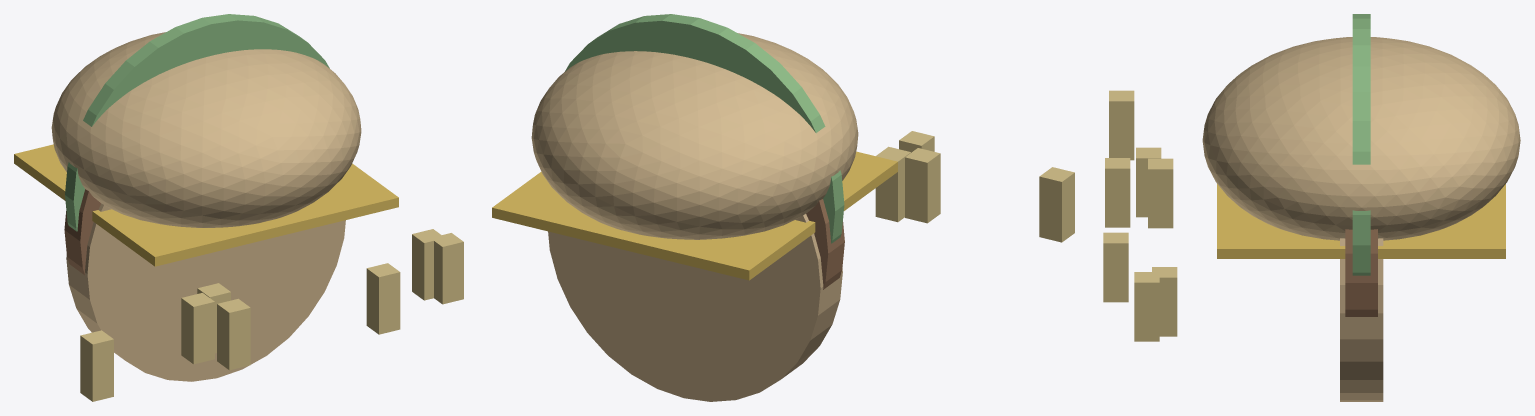
The model's file is burger.glb.
3 renders of one model, left to right at view 1: azimuth 30°, elevation 25°; view 2: azimuth 150°, elevation 25°; view 3: azimuth 270°, elevation 25°, orthographic. The views are drawn at different scales.
Parts seen in each view (by area): view 1: geometry_4, geometry_0, geometry_2, geometry_3, geometry_5, geometry_7, geometry_11, geometry_8, geometry_9, geometry_6, geometry_1, geometry_10; view 2: geometry_4, geometry_0, geometry_2, geometry_3, geometry_8, geometry_11, geometry_1, geometry_10, geometry_7; view 3: geometry_4, geometry_2, geometry_0, geometry_3, geometry_1, geometry_5, geometry_10, geometry_7, geometry_9, geometry_8, geometry_6, geometry_11.
Boxes of the visible parts, x1=… form: geometry_4: x1=51, y1=32, x2=361, y2=227; geometry_0: x1=66, y1=203, x2=345, y2=381; geometry_2: x1=14, y1=144, x2=398, y2=266; geometry_3: x1=65, y1=14, x2=329, y2=231; geometry_5: x1=366, y1=263, x2=400, y2=334; geometry_7: x1=217, y1=298, x2=250, y2=370; geometry_11: x1=181, y1=293, x2=214, y2=364; geometry_8: x1=80, y1=330, x2=113, y2=401; geometry_9: x1=434, y1=233, x2=463, y2=304; geometry_6: x1=412, y1=229, x2=444, y2=300; geometry_1: x1=64, y1=189, x2=100, y2=275; geometry_10: x1=197, y1=283, x2=230, y2=353; geometry_4: x1=531, y1=33, x2=858, y2=239; geometry_0: x1=548, y1=214, x2=842, y2=401; geometry_2: x1=492, y1=151, x2=897, y2=280; geometry_3: x1=565, y1=14, x2=844, y2=243; geometry_8: x1=1039, y1=167, x2=1074, y2=242; geometry_11: x1=905, y1=148, x2=940, y2=223; geometry_1: x1=806, y1=199, x2=844, y2=289; geometry_10: x1=875, y1=146, x2=910, y2=222; geometry_7: x1=899, y1=131, x2=934, y2=152; geometry_4: x1=1202, y1=37, x2=1520, y2=240; geometry_2: x1=1217, y1=184, x2=1505, y2=258; geometry_0: x1=1340, y1=238, x2=1383, y2=401; geometry_3: x1=1352, y1=14, x2=1370, y2=275; geometry_1: x1=1345, y1=229, x2=1377, y2=316; geometry_5: x1=1103, y1=232, x2=1128, y2=302; geometry_10: x1=1148, y1=158, x2=1173, y2=228; geometry_7: x1=1105, y1=158, x2=1130, y2=227; geometry_9: x1=1134, y1=272, x2=1159, y2=341; geometry_8: x1=1109, y1=90, x2=1134, y2=160; geometry_6: x1=1152, y1=267, x2=1177, y2=336; geometry_11: x1=1136, y1=147, x2=1161, y2=217.
Size of the model in its own units: 2.52 by 2.19 by 2.31.
